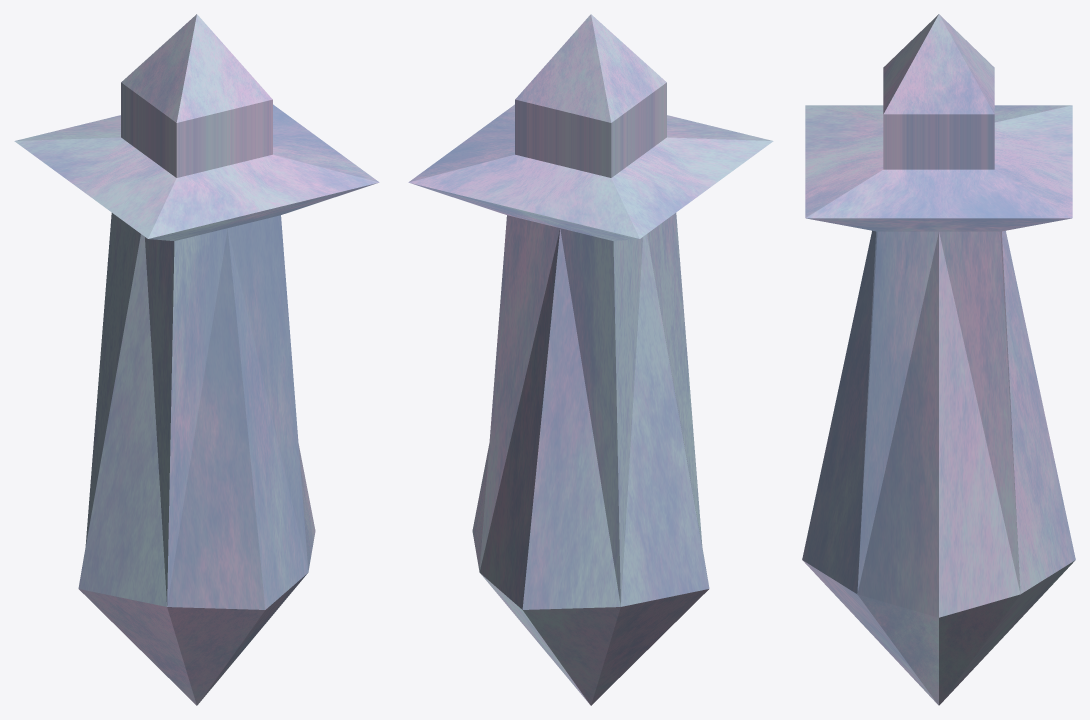
Rendered from playerSkillUp.obj.
3 views of the same model, side by side, from view 1: azimuth 30°, elevation 25°; view 2: azimuth 150°, elevation 25°; view 3: azimuth 270°, elevation 25° (orthographic).
Visible parts, largest first — view 1: 立方体.001; view 2: 立方体.001; view 3: 立方体.001.
Boxes of the visible parts, x1=… form: 立方体.001: x1=14, y1=14, x2=379, y2=705; 立方体.001: x1=408, y1=14, x2=773, y2=705; 立方体.001: x1=802, y1=14, x2=1075, y2=705.
Bounding box in the file's own units: 0.8446 × 2.36 × 0.8446.
Materials: 1 (1 with a texture image).
